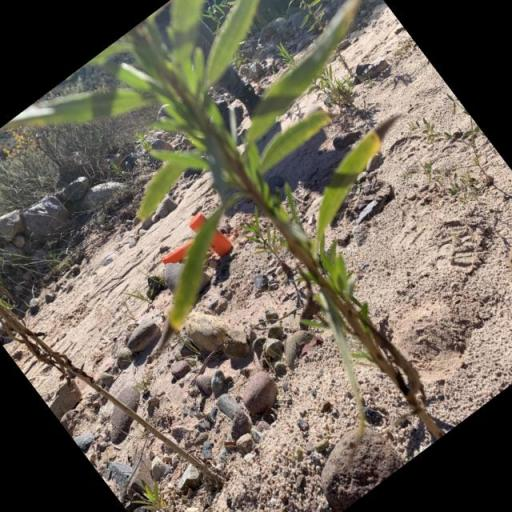mallet: (149, 203, 238, 289)
